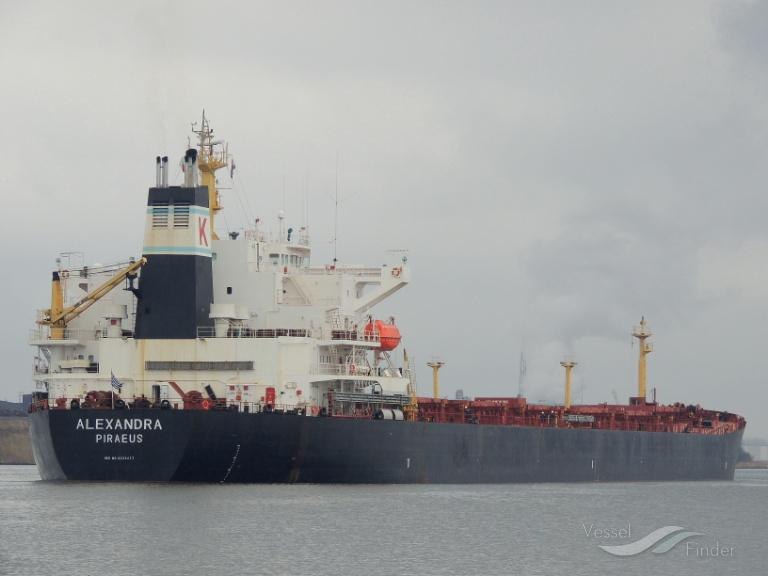OCR: (70, 412, 170, 464)
